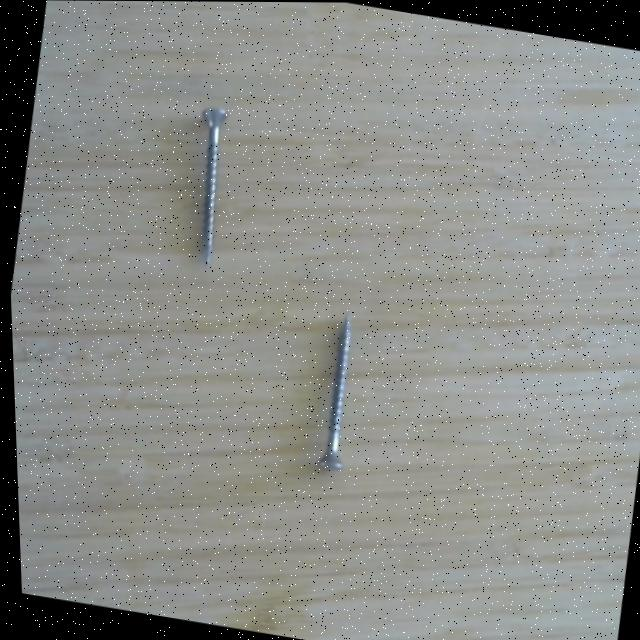Black screw: (187, 101, 238, 278), (309, 304, 351, 474)
